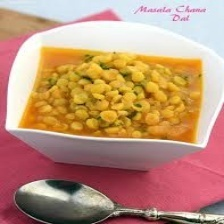dal: (17, 36, 203, 147)
